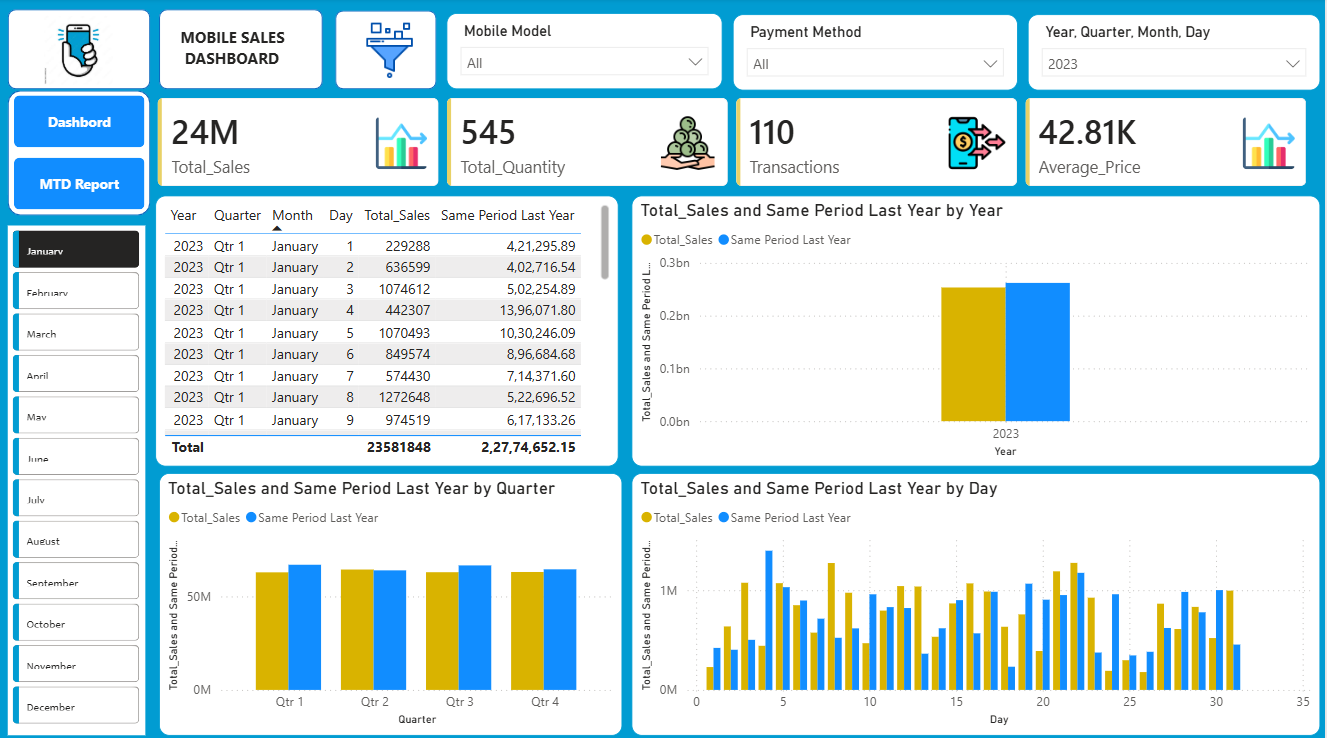

The dashboard page shown, as its layout file describes it:
{"tool":"powerbi","page":{"name":"Same Period Last Year","canvas":[1280,720],"ordinal":2},"visuals":[{"type":"shape","box":[8.4,10.9,137.5,77.2],"z":0},{"type":"shape","box":[8.4,89.3,137.5,109.8],"z":1000},{"type":"shape","box":[154.4,10.9,158,77.2],"z":2000},{"type":"shape","box":[324.5,12.1,97.7,76],"z":3000},{"type":"cardVisual","fields":{"Data":["Sales_Data.Total_Sales","Sales_Data.Total_Quantity","Sales_Data.Transactions","Sales_Data.Average_Price"]},"box":[136.3,79.6,1143.7,119.4],"z":4000},{"type":"slicer","fields":{"Values":["Sales_Data.Mobile Model"]},"box":[431.9,14.5,266.6,73.6],"z":5000},{"type":"slicer","fields":{"Values":["Sales_Data.Payment Method"]},"box":[708.2,15.7,275.1,73.6],"z":6000},{"type":"slicer","fields":{"Values":["Custom_Calender.Date.Variation.Date Hierarchy.Year","Custom_Calender.Date.Variation.Date Hierarchy.Quarter","Custom_Calender.Date.Variation.Date Hierarchy.Month","Custom_Calender.Date.Variation.Date Hierarchy.Day"]},"box":[992.9,15.7,282.3,73.6],"z":7000},{"type":"image","box":[331.8,22.9,90.5,55.5],"z":8000},{"type":"textbox","box":[170.1,22.9,127.9,56.7],"z":9000},{"type":"image","box":[43.4,10.9,66.4,79.6],"z":10000},{"type":"advancedSlicerVisual","fields":{"Values":["Custom_Calender.Date.Variation.Date Hierarchy.Month"]},"box":[8.4,207.5,132.7,504.3],"z":11000},{"type":"tableEx","fields":{"Values":["Custom_Calender.Date.Variation.Date Hierarchy.Year","Custom_Calender.Date.Variation.Date Hierarchy.Quarter","Custom_Calender.Date.Variation.Date Hierarchy.Month","Custom_Calender.Date.Variation.Date Hierarchy.Day","Sales_Data.Total_Sales","Sales_Data.Same Period Last Year"]},"box":[150.8,190.6,447.6,261.8],"z":12000},{"type":"clusteredColumnChart","fields":{"Category":["Custom_Calender.Date.Variation.Date Hierarchy.Year","Custom_Calender.Date.Variation.Date Hierarchy.Quarter","Custom_Calender.Date.Variation.Date Hierarchy.Month","Custom_Calender.Date.Variation.Date Hierarchy.Day"],"Y":["Sales_Data.Total_Sales","Sales_Data.Same Period Last Year"]},"box":[610.5,190.6,664.7,261.8],"z":13000},{"type":"clusteredColumnChart","fields":{"Category":["Custom_Calender.Date.Variation.Date Hierarchy.Year","Custom_Calender.Date.Variation.Date Hierarchy.Quarter","Custom_Calender.Date.Variation.Date Hierarchy.Month","Custom_Calender.Date.Variation.Date Hierarchy.Day"],"Y":["Sales_Data.Total_Sales","Sales_Data.Same Period Last Year"]},"box":[610.5,458.4,664.7,253.4],"z":14000},{"type":"clusteredColumnChart","fields":{"Category":["Custom_Calender.Date.Variation.Date Hierarchy.Year","Custom_Calender.Date.Variation.Date Hierarchy.Quarter","Custom_Calender.Date.Variation.Date Hierarchy.Month","Custom_Calender.Date.Variation.Date Hierarchy.Day"],"Y":["Sales_Data.Total_Sales","Sales_Data.Same Period Last Year"]},"box":[154.4,458.4,447.6,253.4],"z":15000},{"type":"pageNavigator","box":[14.5,94.1,126.7,96.5],"z":16000}]}

Visuals, with their boxes in screenshot pixels (x1, y1, x2, y2), scaled from the page's 1280x720 canvas onto the 1327x738 screenshot:
shape: bbox=(9, 11, 151, 90)
shape: bbox=(9, 92, 151, 204)
shape: bbox=(160, 11, 324, 90)
shape: bbox=(336, 12, 438, 90)
cardVisual - Sales_Data.Total_Sales x Sales_Data.Total_Quantity: bbox=(141, 82, 1326, 204)
slicer - Sales_Data.Mobile Model: bbox=(448, 15, 724, 90)
slicer - Sales_Data.Payment Method: bbox=(734, 16, 1019, 92)
slicer - Custom_Calender.Date.Variation.Date Hierarchy.Year x Custom_Calender.Date.Variation.Date Hierarchy.Quarter: bbox=(1029, 16, 1322, 92)
image: bbox=(344, 23, 438, 80)
textbox: bbox=(176, 23, 309, 82)
image: bbox=(45, 11, 114, 93)
advancedSlicerVisual - Custom_Calender.Date.Variation.Date Hierarchy.Month: bbox=(9, 213, 146, 730)
tableEx - Custom_Calender.Date.Variation.Date Hierarchy.Year x Custom_Calender.Date.Variation.Date Hierarchy.Quarter: bbox=(156, 195, 620, 464)
clusteredColumnChart - Custom_Calender.Date.Variation.Date Hierarchy.Year x Custom_Calender.Date.Variation.Date Hierarchy.Quarter: bbox=(633, 195, 1322, 464)
clusteredColumnChart - Custom_Calender.Date.Variation.Date Hierarchy.Year x Custom_Calender.Date.Variation.Date Hierarchy.Quarter: bbox=(633, 470, 1322, 730)
clusteredColumnChart - Custom_Calender.Date.Variation.Date Hierarchy.Year x Custom_Calender.Date.Variation.Date Hierarchy.Quarter: bbox=(160, 470, 624, 730)
pageNavigator: bbox=(15, 96, 146, 195)
